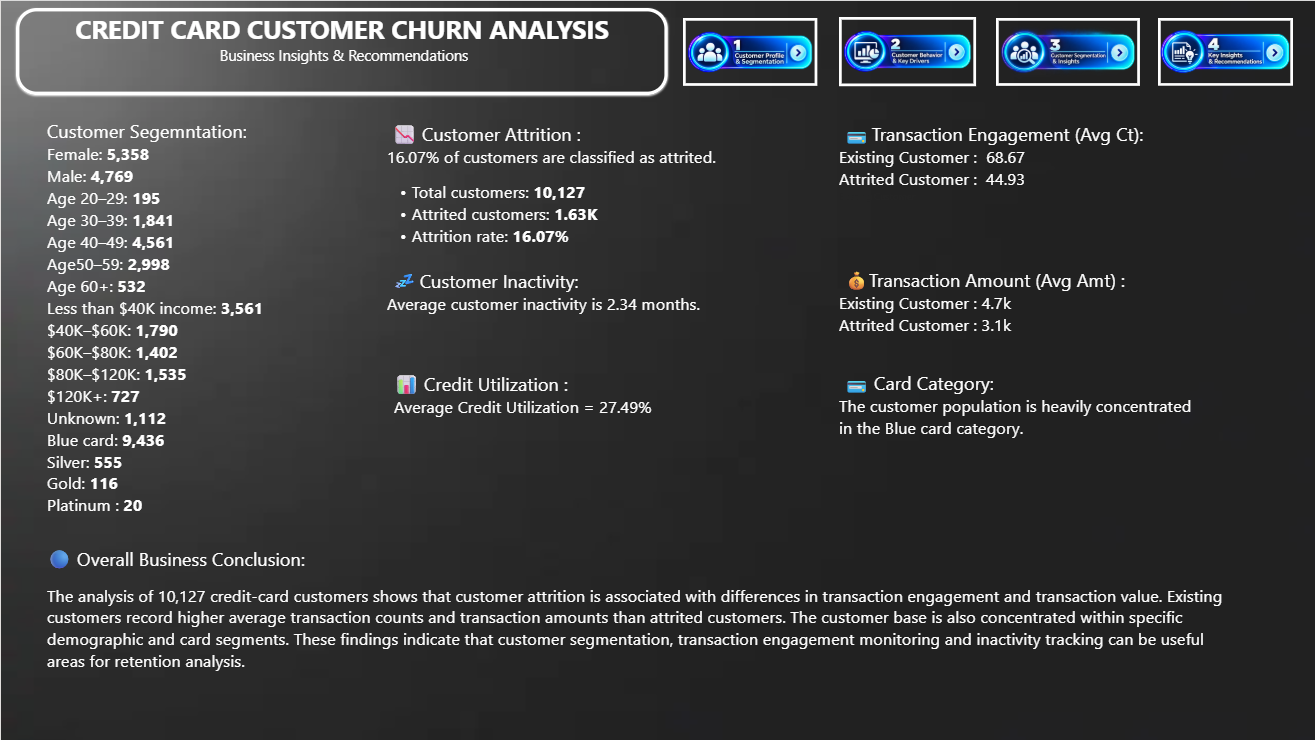

The page's visual inventory and layout, read from the dashboard file:
{"tool":"powerbi","page":{"name":"  Page 4","canvas":[1920,1080],"ordinal":3},"visuals":[{"type":"textbox","box":[21.9,10.2,951.2,126.9],"z":0},{"type":"image","box":[995,24.8,195.5,99.2],"z":1000},{"type":"image","box":[1222.6,23.3,199.9,100.7],"z":2000},{"type":"image","box":[1451.7,24.8,210.1,99.2],"z":3000},{"type":"image","box":[1688,24.8,197,99.2],"z":4000},{"type":"textbox","box":[563.2,175.1,660,327.1],"z":5000},{"type":"textbox","box":[1222.6,175.1,591.4,150],"z":6000},{"type":"textbox","box":[1222.6,388.1,505.7,150],"z":7000},{"type":"textbox","box":[563.2,389.5,511.4,150],"z":8000},{"type":"textbox","box":[1222.6,538.4,534.3,145.7],"z":9000},{"type":"textbox","box":[67.1,776.2,1746.4,303.5],"z":10000},{"type":"textbox","box":[67.1,170.7,716.4,625.9],"z":10001},{"type":"textbox","box":[573.4,539.8,529.6,198.4],"z":10002}]}

Visuals, with their boxes in screenshot pixels (x1, y1, x2, y2), scaled from the page's 1920x1080 canvas onto the 1315x740 screenshot:
textbox: crop(15, 7, 666, 94)
image: crop(681, 17, 815, 85)
image: crop(837, 16, 974, 85)
image: crop(994, 17, 1138, 85)
image: crop(1156, 17, 1291, 85)
textbox: crop(386, 120, 838, 344)
textbox: crop(837, 120, 1242, 223)
textbox: crop(837, 266, 1184, 369)
textbox: crop(386, 267, 736, 370)
textbox: crop(837, 369, 1203, 469)
textbox: crop(46, 532, 1242, 739)
textbox: crop(46, 117, 537, 546)
textbox: crop(393, 370, 755, 506)
